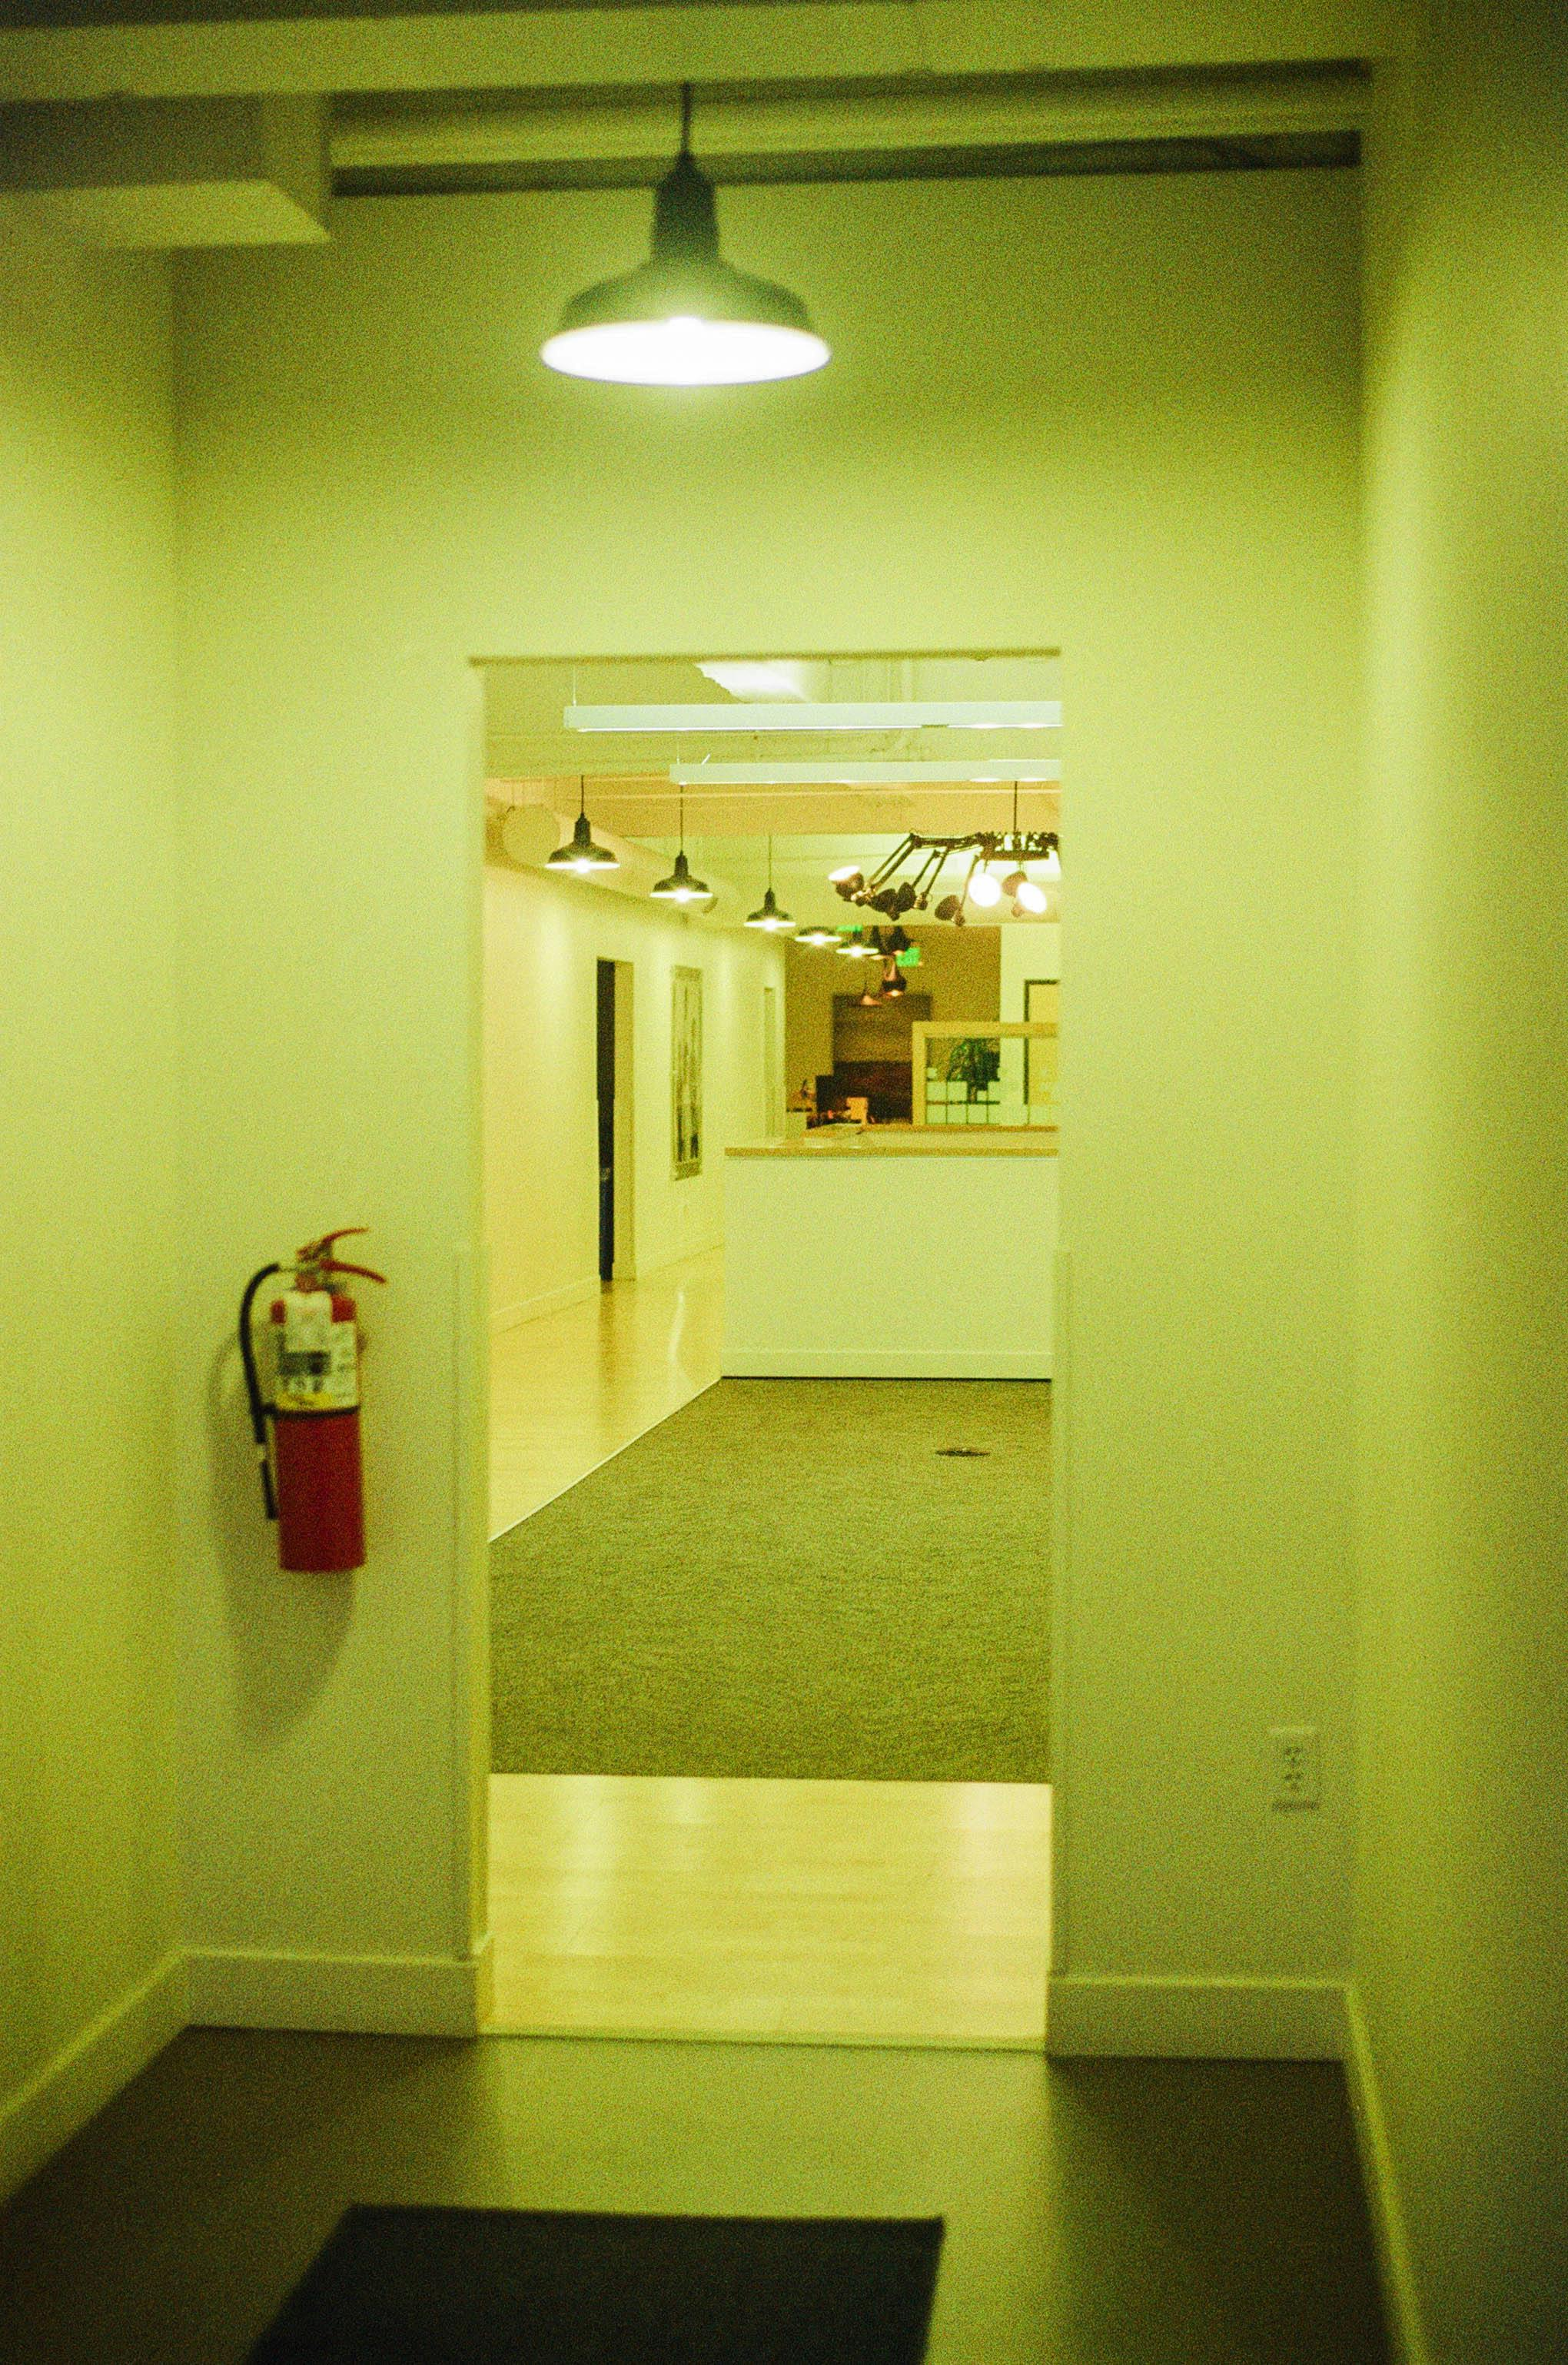extintor: (220, 1212, 399, 1587)
